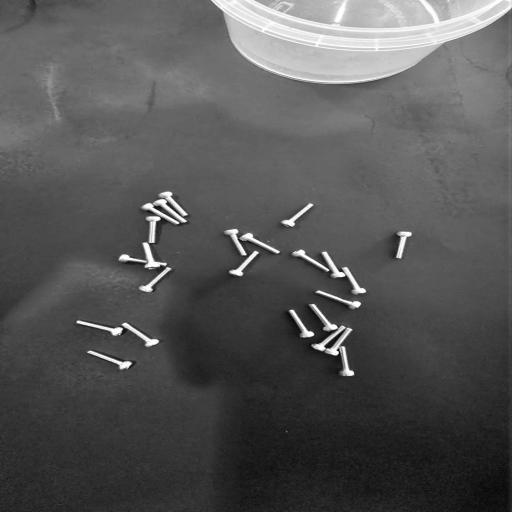Bolt: (122, 323, 159, 347), (141, 203, 180, 225), (88, 351, 133, 370), (312, 326, 346, 351), (292, 250, 329, 272), (316, 291, 361, 309), (239, 233, 279, 253), (154, 199, 187, 223), (309, 304, 338, 331), (139, 268, 171, 292), (229, 251, 259, 276), (281, 204, 313, 227), (325, 328, 352, 355), (289, 310, 314, 338), (159, 192, 188, 216), (77, 321, 123, 335), (342, 268, 366, 294), (322, 252, 345, 278), (224, 229, 246, 255), (339, 346, 354, 376), (143, 243, 160, 269), (395, 232, 412, 258), (146, 216, 160, 243), (119, 255, 147, 264)
